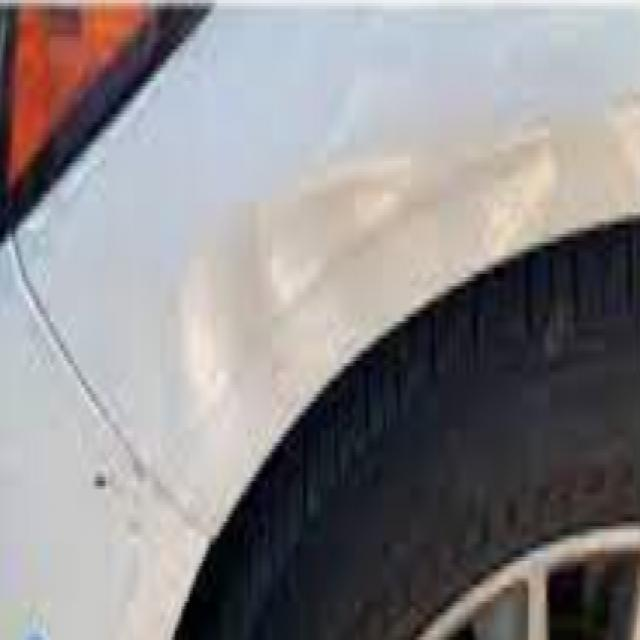dents: (89, 456, 172, 580)
